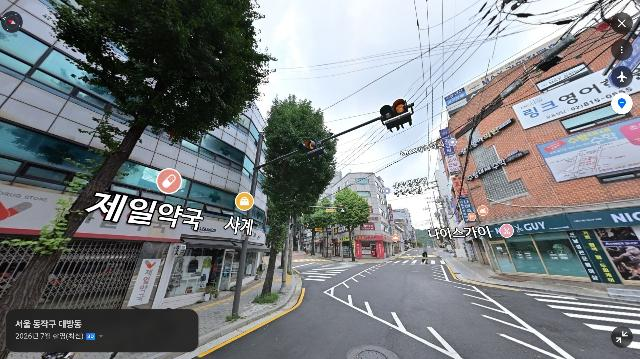other: (0, 0, 278, 311), (254, 94, 339, 299), (318, 188, 372, 263), (289, 190, 326, 257)
